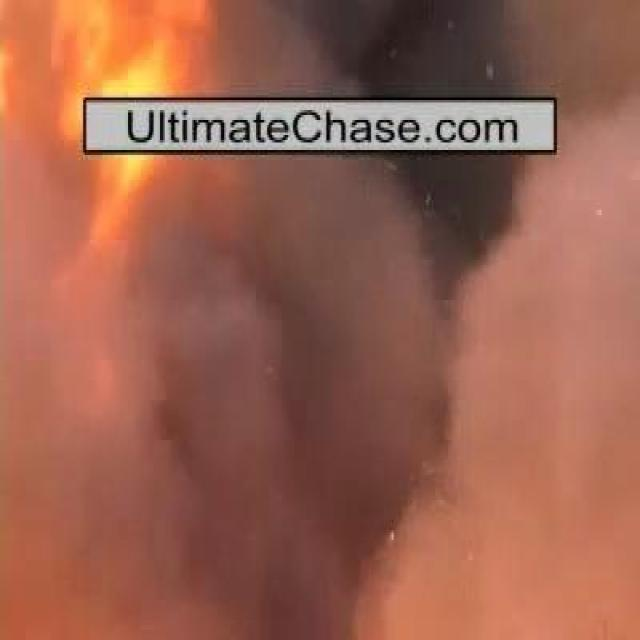Smoke: (23, 174, 617, 591)
